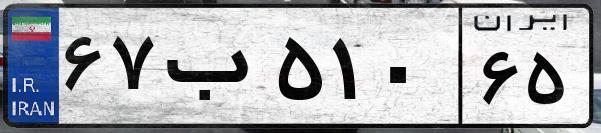0: (385, 28, 445, 110)
1: (330, 28, 385, 110)
5: (270, 28, 330, 110), (525, 38, 570, 115)
6: (57, 26, 110, 100), (475, 38, 525, 113)
7: (110, 28, 158, 98)
ب: (158, 20, 270, 120)
